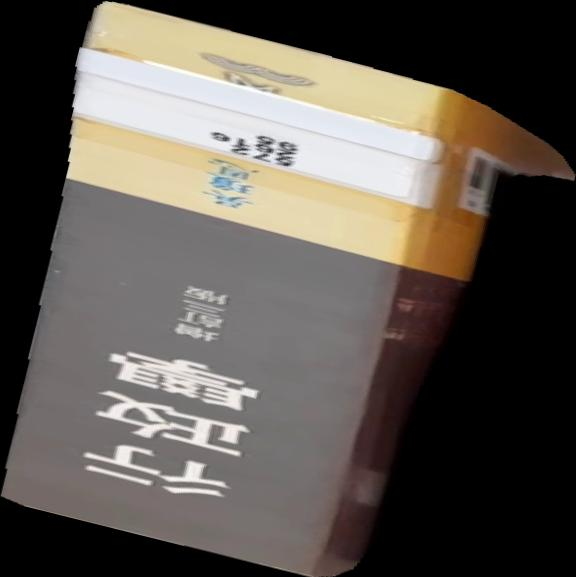reverse: (1, 1, 576, 577)
